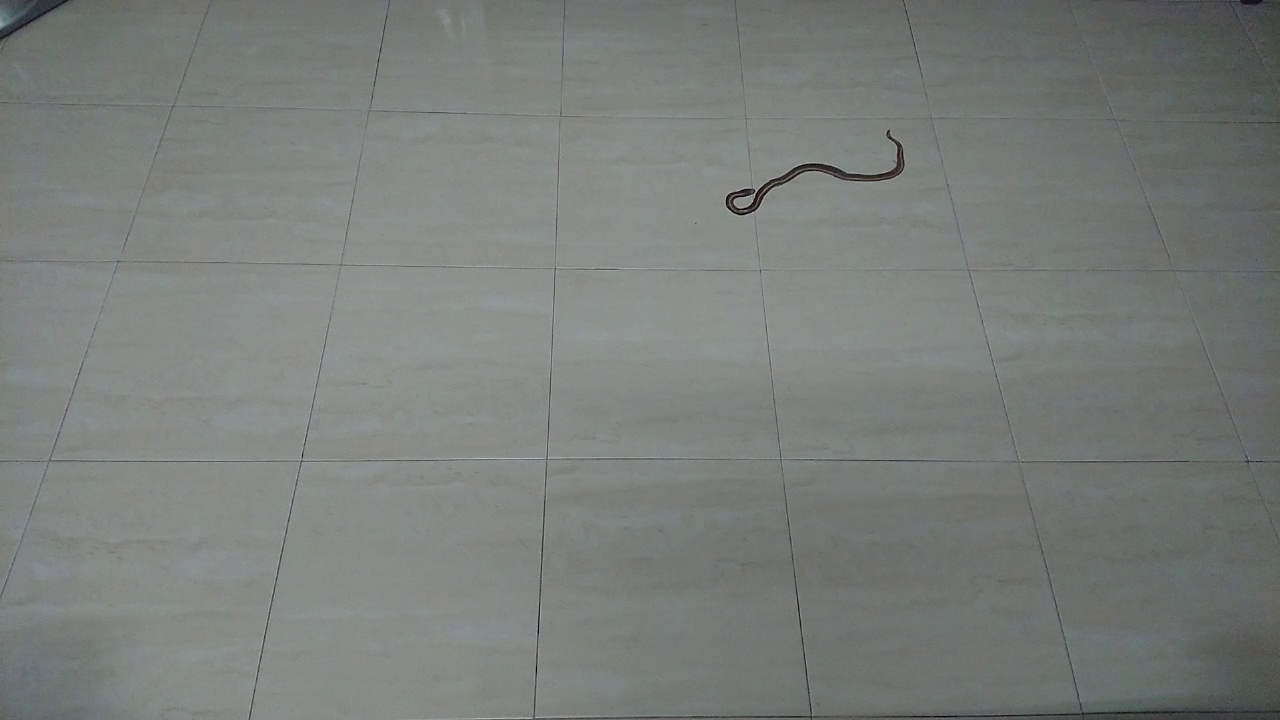snake: (707, 119, 921, 227)
